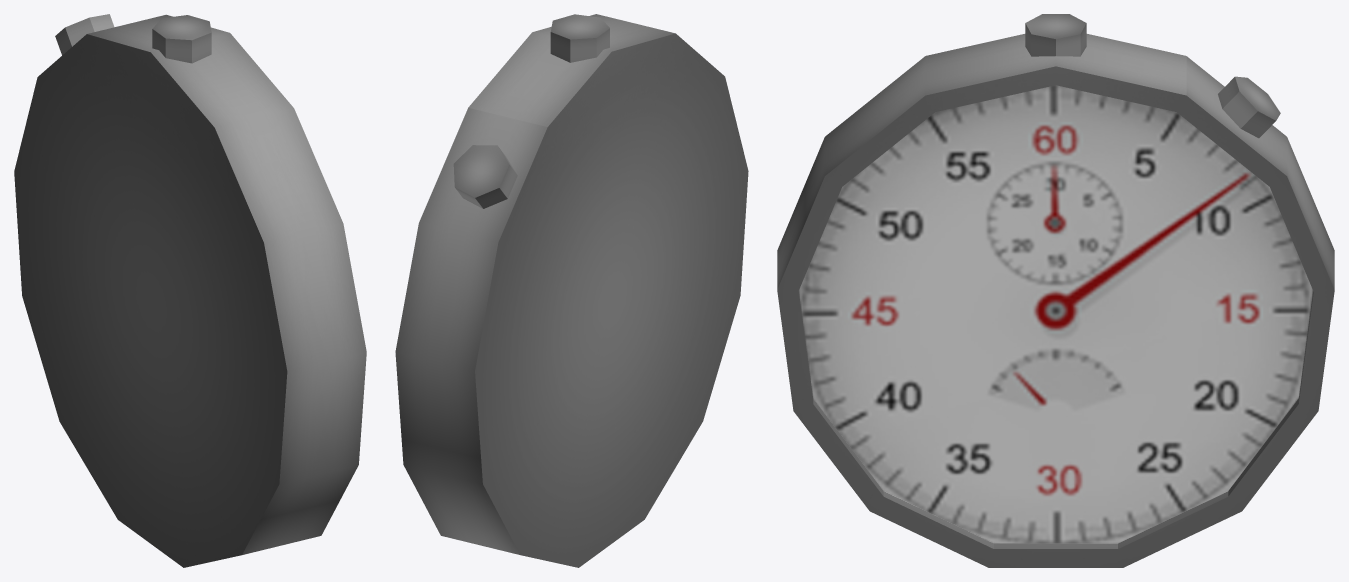
The model's file is Stopwatch.fbx.
3 views of the same model, side by side, from view 1: azimuth 30°, elevation 25°; view 2: azimuth 150°, elevation 25°; view 3: azimuth 270°, elevation 25° (orthographic). The views are drawn at different scales.
Parts seen in each view (by area): view 1: pCylinder4; view 2: pCylinder4; view 3: pCylinder4.
Boxes of the visible parts, x1,y1,x2,y2 form: pCylinder4: (14, 14, 366, 567); pCylinder4: (395, 14, 748, 567); pCylinder4: (777, 14, 1334, 567).
Size of the model in its own units: 0.3333 by 2.04 by 1.99.
